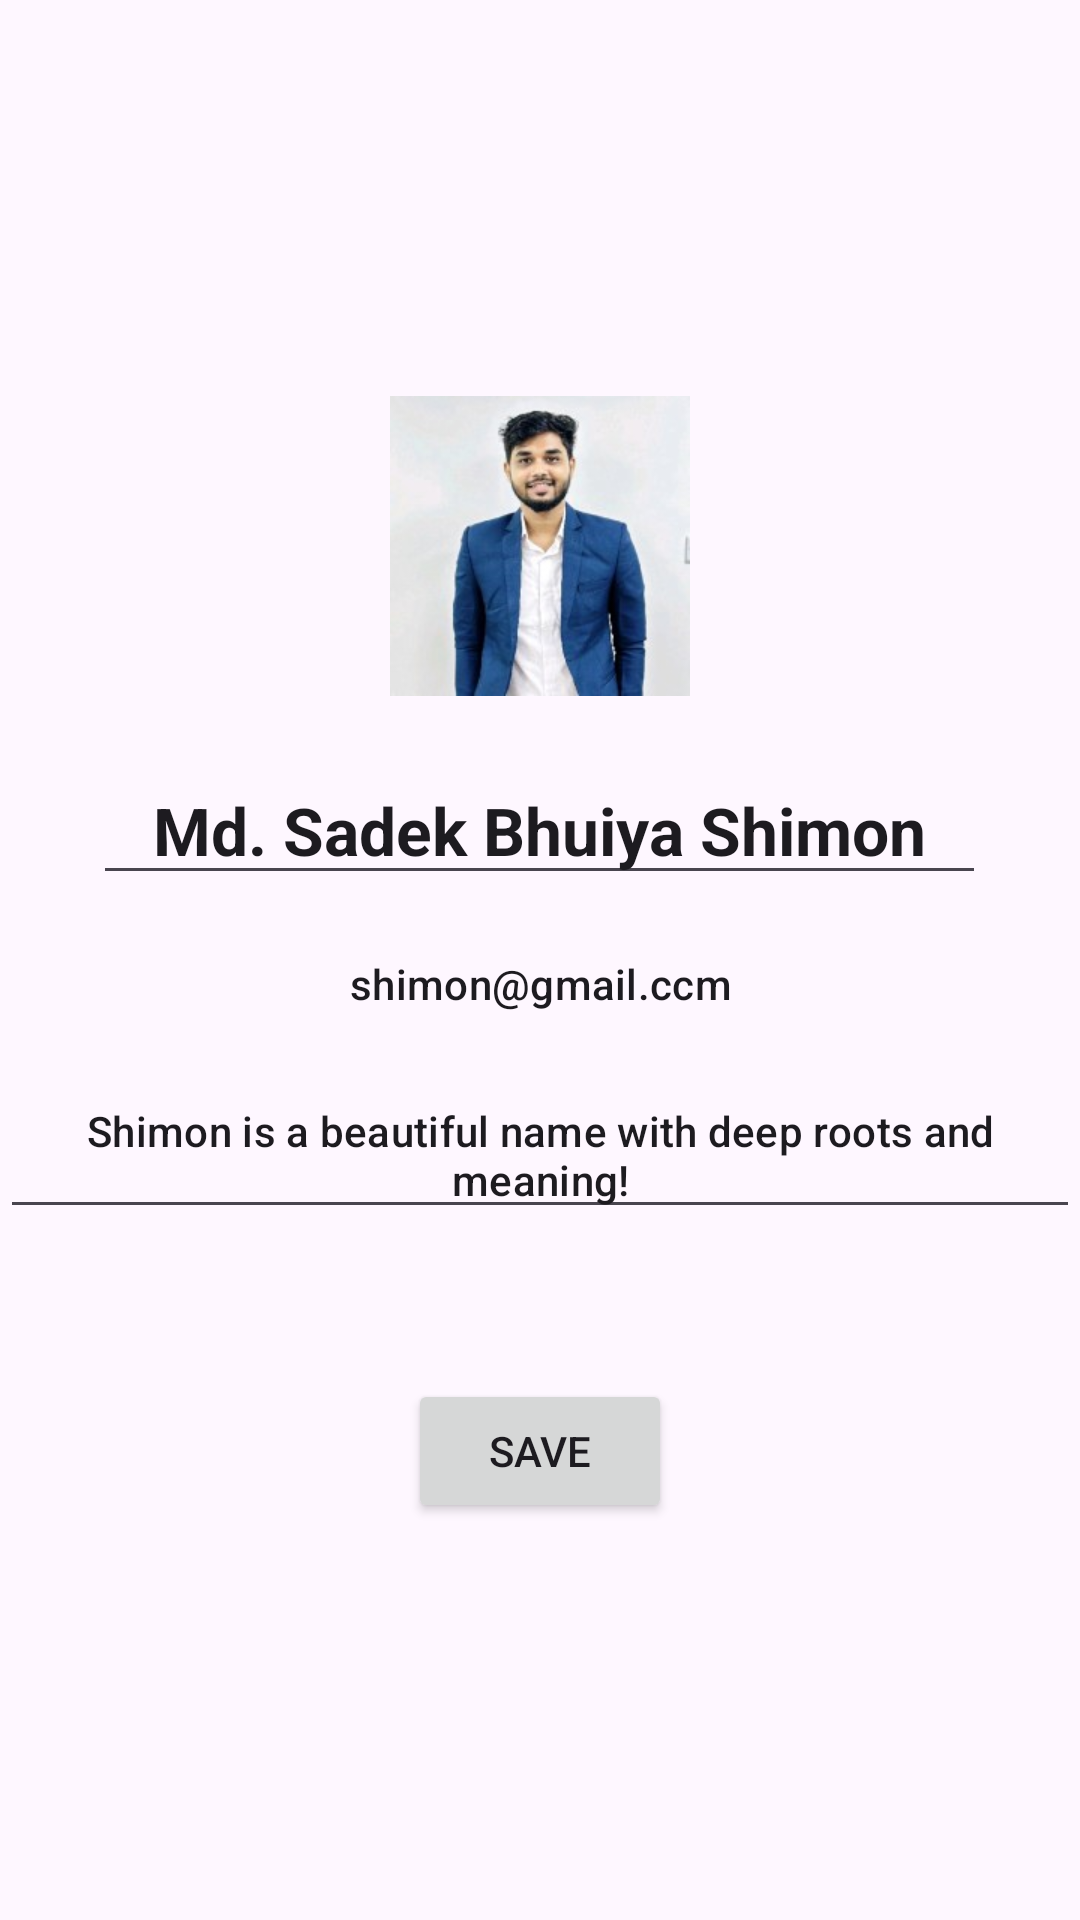

Icons on this 1080w x 1920h Android screen, each with its box as bbox=[x1, y1, x2, y2]:
profile: bbox=[390, 396, 690, 696]
